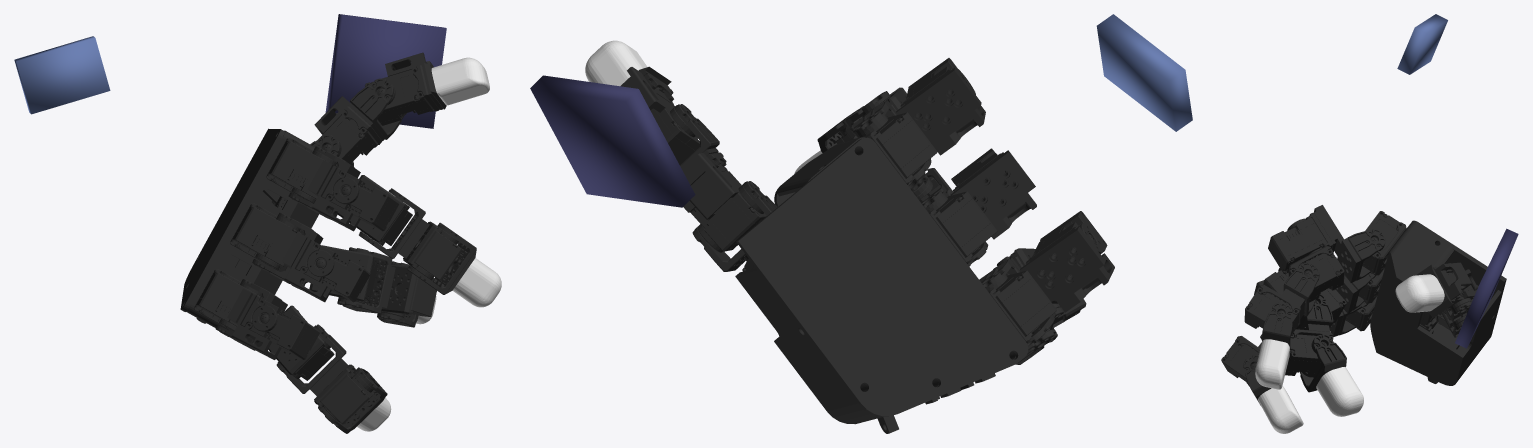
File: prediction.glb
The picture shows the model from 3 angles, left to right: view 1: azimuth 30°, elevation 25°; view 2: azimuth 150°, elevation 25°; view 3: azimuth 270°, elevation 25°; orthographic projection. The views are drawn at different scales.
Parts seen in each view (by area): view 1: HAND__012__meshes__visual__palm_lower.glb__black_metal, OBJECT__00__recorded_box, OBJECT__01__recorded_box, HAND__011__meshes__visual__mcp_joint.glb_2__black_metal, HAND__009__meshes__visual__mcp_joint.glb__black_metal, HAND__010__meshes__visual__mcp_joint.glb_1__black_metal, HAND__017__meshes__visual__thumb_dip.glb__black_metal, HAND__001__meshes__visual__dip.glb_1__black_metal, HAND__000__meshes__visual__dip.glb__black_metal, HAND__002__meshes__visual__dip.glb_2__black_metal, HAND__019__meshes__visual__thumb_fingertip.glb_1__black_meta, HAND__018__meshes__visual__thumb_fingertip.glb__White_tip (+8 smaller); view 2: HAND__012__meshes__visual__palm_lower.glb__black_metal, OBJECT__00__recorded_box, HAND__011__meshes__visual__mcp_joint.glb_2__black_metal, OBJECT__01__recorded_box, HAND__017__meshes__visual__thumb_dip.glb__black_metal, HAND__009__meshes__visual__mcp_joint.glb__black_metal, HAND__010__meshes__visual__mcp_joint.glb_1__black_metal, HAND__019__meshes__visual__thumb_fingertip.glb_1__black_meta, HAND__018__meshes__visual__thumb_fingertip.glb__White_tip, HAND__020__meshes__visual__thumb_pip.glb__black_metal, HAND__000__meshes__visual__dip.glb__black_metal; view 3: HAND__012__meshes__visual__palm_lower.glb__black_metal, HAND__009__meshes__visual__mcp_joint.glb__black_metal, HAND__000__meshes__visual__dip.glb__black_metal, HAND__001__meshes__visual__dip.glb_1__black_metal, OBJECT__00__recorded_box, HAND__005__meshes__visual__fingertip.glb_2__White_tip, OBJECT__01__recorded_box, HAND__019__meshes__visual__thumb_fingertip.glb_1__black_meta, HAND__018__meshes__visual__thumb_fingertip.glb__White_tip, HAND__013__meshes__visual__pip.glb__black_metal, HAND__003__meshes__visual__fingertip.glb__White_tip, HAND__007__meshes__visual__fingertip.glb_4__White_tip (+8 smaller).
Part boxes in pixels (box(x1,y1,x2,y2)): HAND__012__meshes__visual__palm_lower.glb__black_metal: box(180, 128, 337, 332); OBJECT__00__recorded_box: box(325, 14, 446, 128); OBJECT__01__recorded_box: box(14, 36, 110, 114); HAND__011__meshes__visual__mcp_joint.glb_2__black_metal: box(215, 279, 319, 359); HAND__009__meshes__visual__mcp_joint.glb__black_metal: box(288, 146, 399, 231); HAND__010__meshes__visual__mcp_joint.glb_1__black_metal: box(252, 212, 369, 302); HAND__017__meshes__visual__thumb_dip.glb__black_metal: box(314, 78, 406, 165); HAND__001__meshes__visual__dip.glb_1__black_metal: box(337, 247, 436, 317); HAND__000__meshes__visual__dip.glb__black_metal: box(359, 188, 462, 280); HAND__002__meshes__visual__dip.glb_2__black_metal: box(276, 324, 373, 424); HAND__019__meshes__visual__thumb_fingertip.glb_1__black_meta: box(365, 52, 446, 125); HAND__018__meshes__visual__thumb_fingertip.glb__White_tip: box(431, 57, 489, 105); HAND__012__meshes__visual__palm_lower.glb__black_metal: box(735, 112, 1056, 433); OBJECT__00__recorded_box: box(530, 75, 695, 207); HAND__011__meshes__visual__mcp_joint.glb_2__black_metal: box(979, 211, 1114, 346); OBJECT__01__recorded_box: box(1096, 14, 1192, 131); HAND__017__meshes__visual__thumb_dip.glb__black_metal: box(674, 104, 766, 252); HAND__009__meshes__visual__mcp_joint.glb__black_metal: box(850, 58, 985, 186); HAND__010__meshes__visual__mcp_joint.glb_1__black_metal: box(919, 148, 1036, 266); HAND__019__meshes__visual__thumb_fingertip.glb_1__black_meta: box(620, 66, 699, 164); HAND__018__meshes__visual__thumb_fingertip.glb__White_tip: box(585, 40, 647, 86); HAND__020__meshes__visual__thumb_pip.glb__black_metal: box(692, 181, 777, 271); HAND__000__meshes__visual__dip.glb__black_metal: box(835, 87, 906, 143); HAND__012__meshes__visual__palm_lower.glb__black_metal: box(1345, 211, 1506, 385); HAND__009__meshes__visual__mcp_joint.glb__black_metal: box(1268, 205, 1385, 282); HAND__000__meshes__visual__dip.glb__black_metal: box(1244, 262, 1319, 336); HAND__001__meshes__visual__dip.glb_1__black_metal: box(1285, 294, 1333, 377); OBJECT__00__recorded_box: box(1455, 228, 1518, 348); HAND__005__meshes__visual__fingertip.glb_2__White_tip: box(1316, 367, 1363, 416); OBJECT__01__recorded_box: box(1397, 14, 1447, 74); HAND__019__meshes__visual__thumb_fingertip.glb_1__black_meta: box(1416, 262, 1475, 317); HAND__018__meshes__visual__thumb_fingertip.glb__White_tip: box(1395, 274, 1444, 312); HAND__013__meshes__visual__pip.glb__black_metal: box(1288, 246, 1344, 302); HAND__003__meshes__visual__fingertip.glb__White_tip: box(1255, 339, 1289, 389); HAND__007__meshes__visual__fingertip.glb_4__White_tip: box(1258, 386, 1303, 433).
Bounding box in the file's own units: 0.3177 × 0.2535 × 0.2106.
